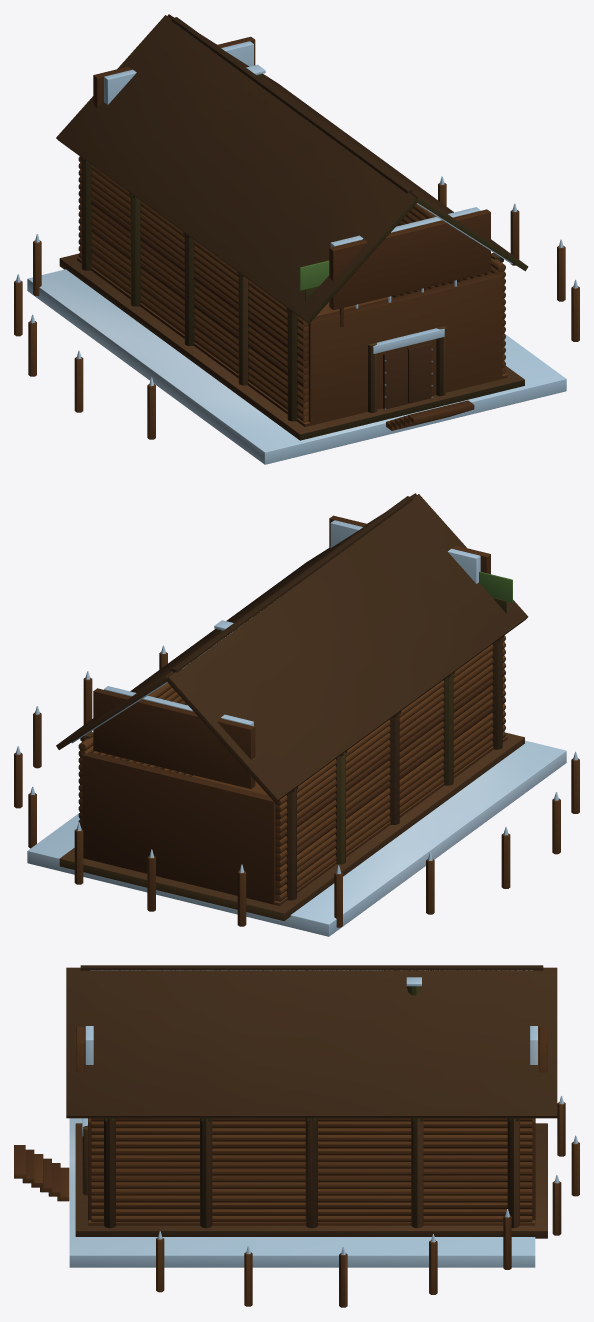
The model's file is building_outcast_great_camp.fbx.
3 renders of one model, top to bottom at view 1: azimuth 30°, elevation 25°; view 2: azimuth 150°, elevation 25°; view 3: azimuth 270°, elevation 25°, orthographic.
Visible parts, largest first — view 1: building_outcast_great_camp; view 2: building_outcast_great_camp; view 3: building_outcast_great_camp.
Boxes of the visible parts, x1=… form: building_outcast_great_camp: x1=14, y1=14, x2=579, y2=464; building_outcast_great_camp: x1=14, y1=493, x2=579, y2=936; building_outcast_great_camp: x1=14, y1=965, x2=579, y2=1307.
Size of the model in its own units: 17.64 by 8.15 by 18.22.
